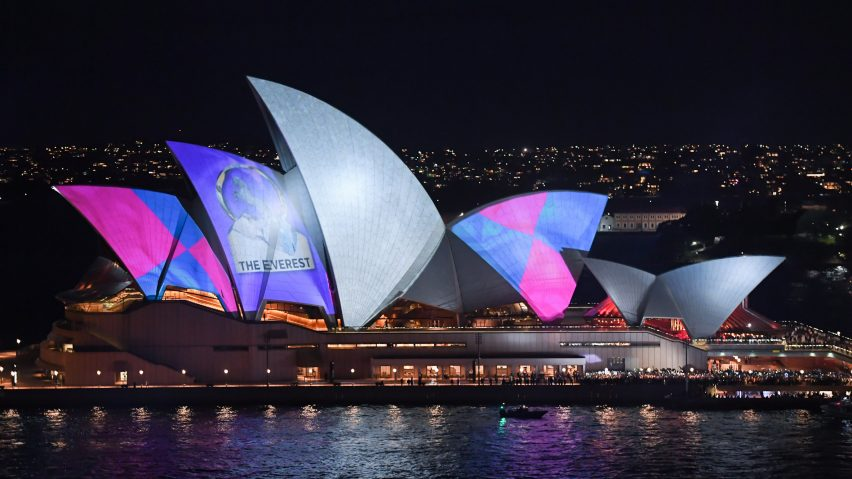opera house: (31, 50, 798, 376)
